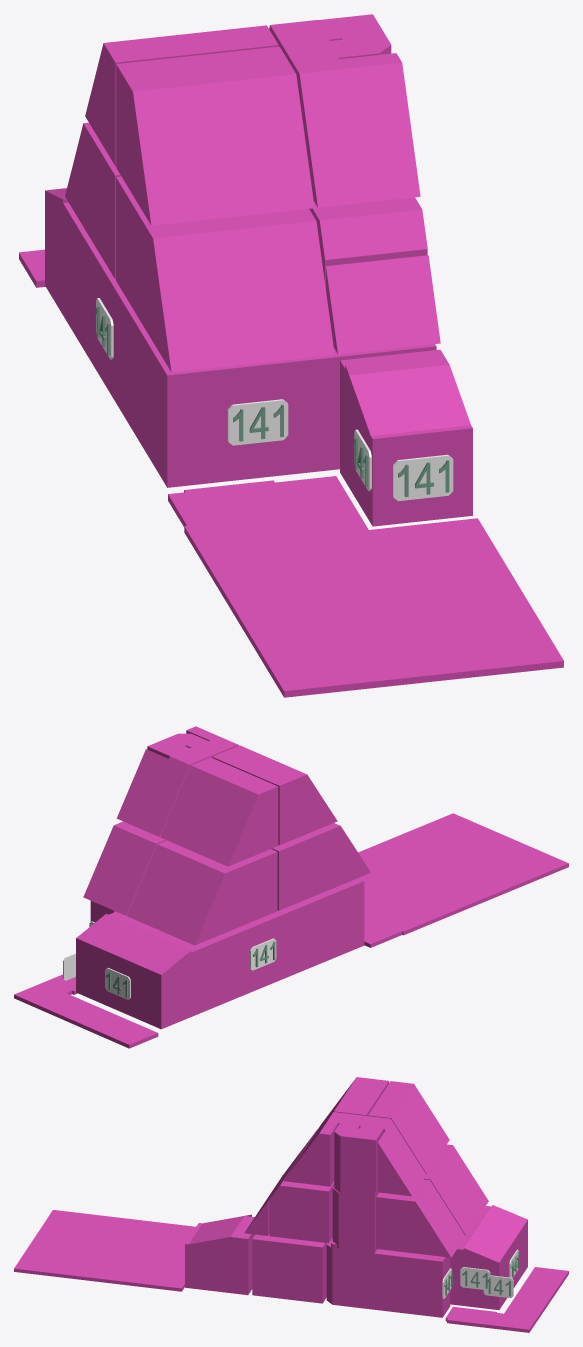
3 renders of one model, top to bottom at view 1: azimuth 30°, elevation 25°; view 2: azimuth 150°, elevation 25°; view 3: azimuth 270°, elevation 25°, orthographic. The views are drawn at different scales.
Visible parts, largest first — view 1: g_18, g_10, g_7, g_0, g_15, g_5, g_1, g_16, g_6, g_11, g_8, g_14 (+2 smaller); view 2: g_1, g_18, g_8, g_11, g_7, g_15, g_10, g_0, g_9, g_17, g_19, g_14 (+2 smaller); view 3: g_18, g_15, g_1, g_9, g_5, g_0, g_2, g_6, g_11, g_4, g_14, g_8 (+7 smaller).
Boxes of the visible parts, x1,y1,x2,y2 form: g_18: [168, 476, 563, 697]; g_10: [116, 46, 314, 225]; g_7: [116, 176, 334, 372]; g_0: [130, 314, 436, 487]; g_15: [269, 20, 420, 207]; g_5: [340, 349, 472, 526]; g_1: [45, 188, 135, 426]; g_16: [326, 255, 440, 354]; g_6: [309, 197, 427, 288]; g_11: [85, 25, 278, 166]; g_8: [65, 122, 120, 279]; g_14: [318, 14, 391, 59]; g_1: [76, 903, 303, 1029]; g_18: [358, 813, 568, 947]; g_8: [127, 840, 277, 945]; g_11: [160, 757, 278, 866]; g_7: [271, 823, 370, 910]; g_15: [116, 726, 238, 836]; g_10: [212, 745, 337, 845]; g_0: [297, 878, 364, 970]; g_9: [83, 821, 166, 915]; g_17: [37, 993, 158, 1048]; g_19: [14, 974, 77, 1008]; g_14: [147, 733, 207, 758]; g_18: [14, 1210, 195, 1291]; g_15: [283, 1112, 426, 1196]; g_1: [450, 1205, 527, 1309]; g_9: [376, 1179, 465, 1257]; g_5: [185, 1214, 254, 1295]; g_0: [252, 1234, 326, 1303]; g_2: [376, 1249, 450, 1317]; g_6: [269, 1164, 334, 1243]; g_11: [368, 1081, 449, 1173]; g_4: [326, 1238, 379, 1309]; g_14: [334, 1123, 383, 1192]; g_8: [424, 1144, 488, 1235].
Bounding box in the file's own units: 11.78 × 7.94 × 23.05.
